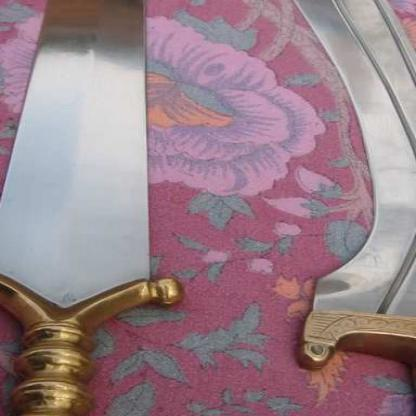knife: (224, 0, 415, 415)
